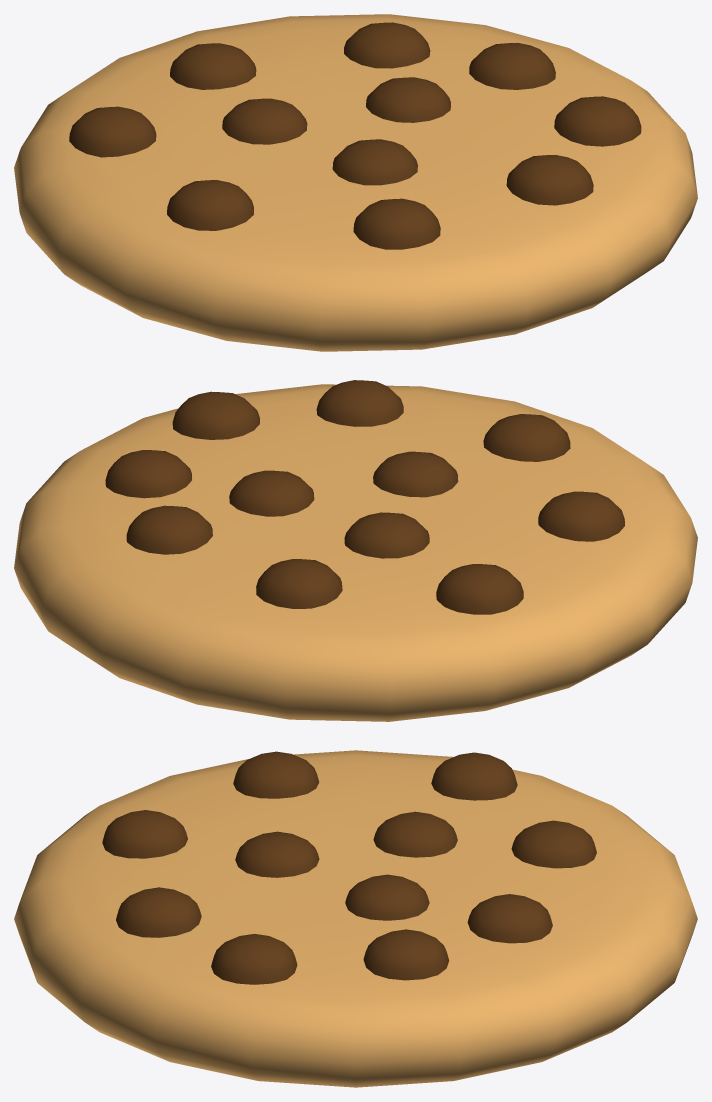
File: Cookie.fbx
3 renders of one model, top to bottom at view 1: azimuth 30°, elevation 25°; view 2: azimuth 150°, elevation 25°; view 3: azimuth 270°, elevation 25°, orthographic.
Visible parts, largest first — view 1: Cookie; view 2: Cookie; view 3: Cookie.
Boxes of the visible parts, x1=… form: Cookie: x1=14, y1=14, x2=697, y2=351; Cookie: x1=14, y1=380, x2=697, y2=721; Cookie: x1=14, y1=750, x2=697, y2=1087.
Bounding box in the file's own units: 2 × 0.3596 × 2.
